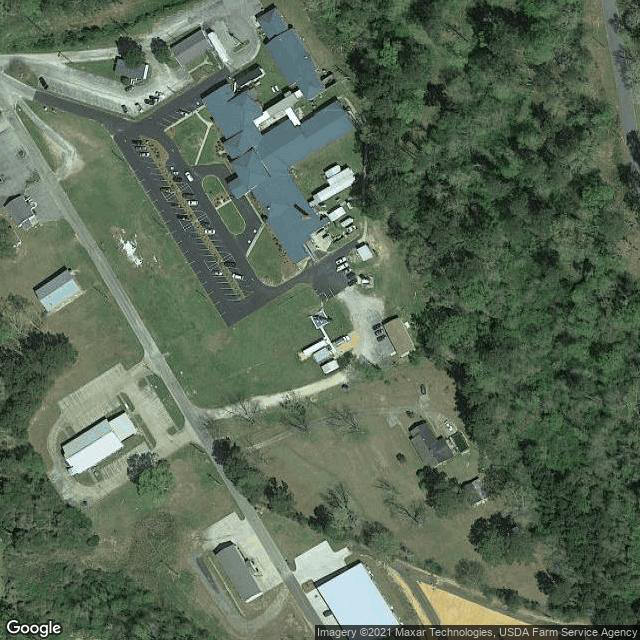Helipad: (304, 307, 336, 329)
